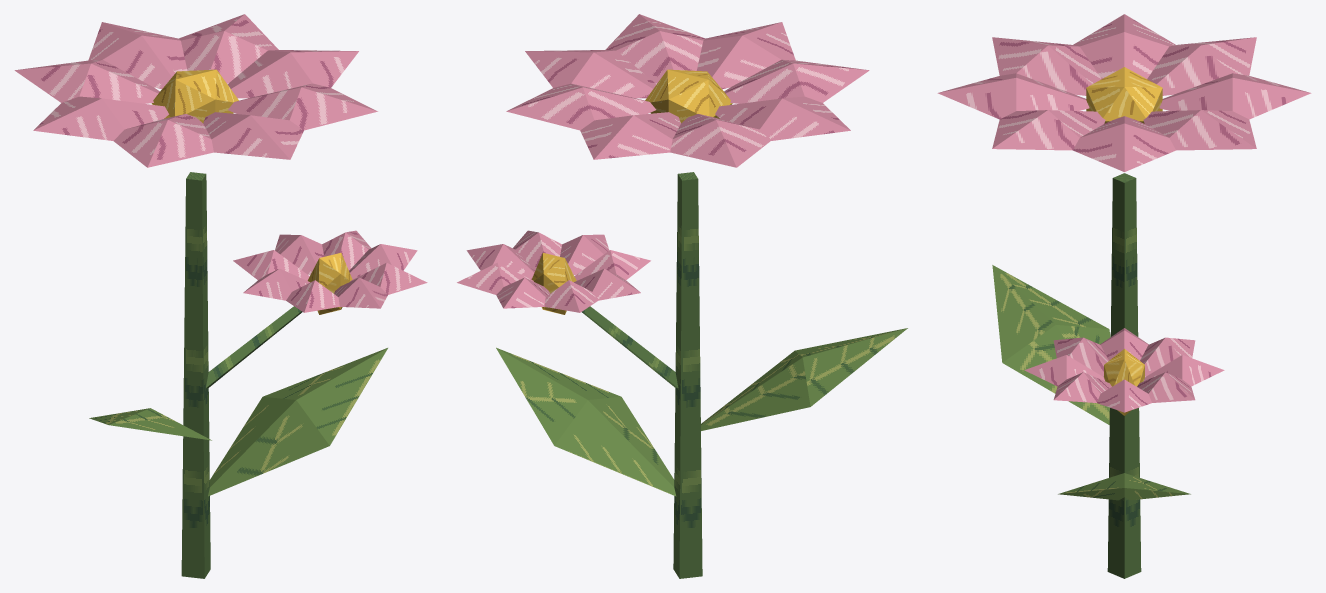
The model's file is flor-cosmos-v01.gltf.
The picture shows the model from 3 angles, left to right: view 1: azimuth 30°, elevation 25°; view 2: azimuth 150°, elevation 25°; view 3: azimuth 270°, elevation 25°; orthographic projection.
Visible parts, largest first — view 1: petalas, folhas, hastes, miolo; view 2: petalas, folhas, hastes, miolo; view 3: petalas, folhas, hastes, miolo.
Part boxes in pixels (box(x1,y1,x2,y2)): petalas: box(14, 14, 427, 312); folhas: box(89, 348, 387, 496); hastes: box(181, 172, 302, 578); miolo: box(151, 69, 352, 314); petalas: box(457, 14, 869, 312); folhas: box(496, 328, 907, 496); hastes: box(582, 172, 702, 578); miolo: box(531, 69, 732, 314); petalas: box(937, 14, 1311, 412); folhas: box(992, 265, 1190, 500); hastes: box(1107, 173, 1141, 578); miolo: box(1086, 67, 1162, 415).
Size of the model in its own units: 0.66 by 0.8168 by 0.56.
Materials: 1 (1 with a texture image).
